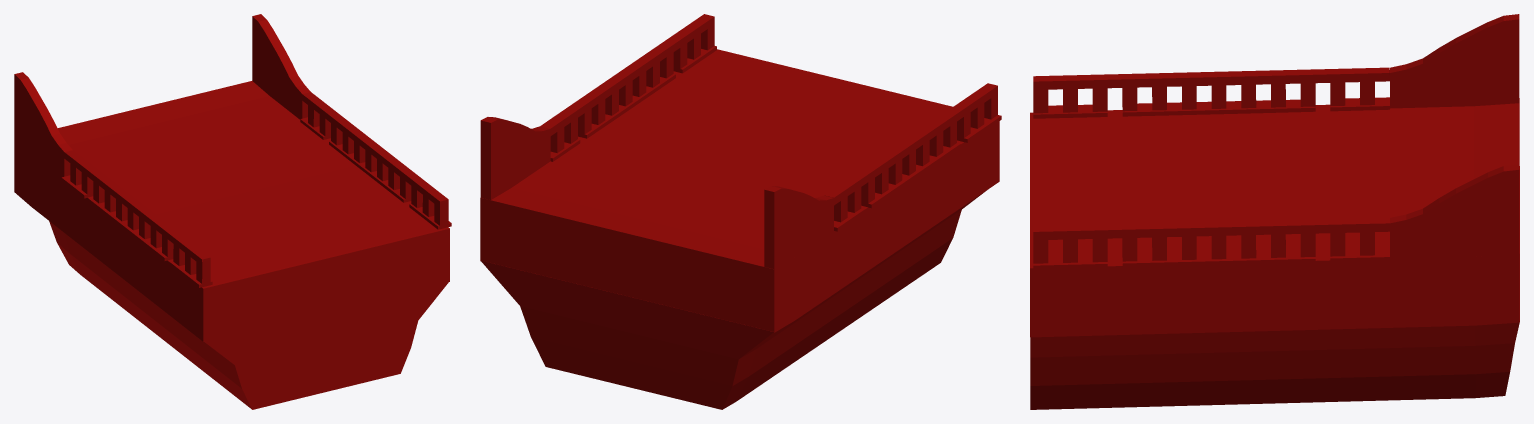
File: CubiertaDesdeProa_Model.fbx
The picture shows the model from 3 angles, left to right: view 1: azimuth 30°, elevation 25°; view 2: azimuth 150°, elevation 25°; view 3: azimuth 270°, elevation 25°; orthographic projection. The views are drawn at different scales.
Parts seen in each view (by area): view 1: CubiertaFrontal_Rojo; view 2: CubiertaFrontal_Rojo; view 3: CubiertaFrontal_Rojo.
Part boxes in pixels (<box>): CubiertaFrontal_Rojo: <box>14,14,451,409</box>; CubiertaFrontal_Rojo: <box>480,14,1001,409</box>; CubiertaFrontal_Rojo: <box>1030,14,1519,409</box>.
Bounding box in the file's own units: 215 × 171 × 279.
